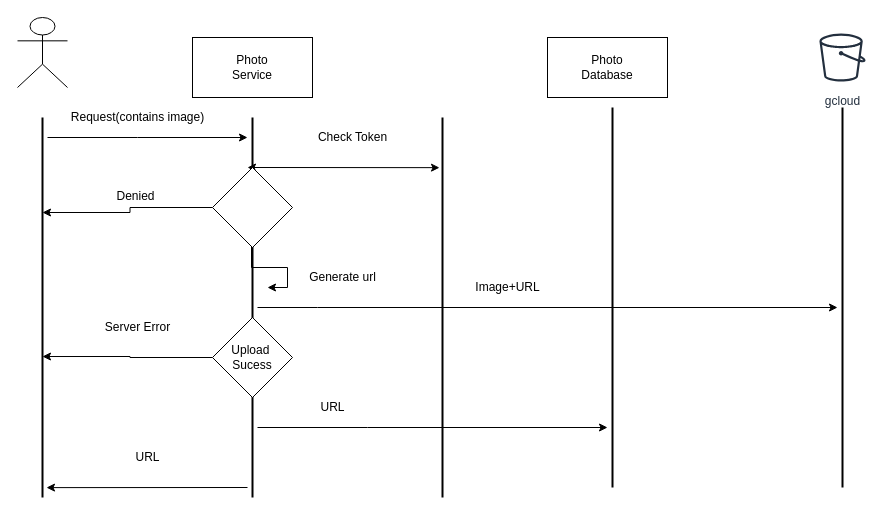
The diagram is 890 pixels wide and 516 high, and some of its shapes have lost their labels. Here are the shapes that lost their labels. From the top down, the box of each, then its label:
(16, 16, 68, 88): Client
(212, 166, 292, 248): Token valie
